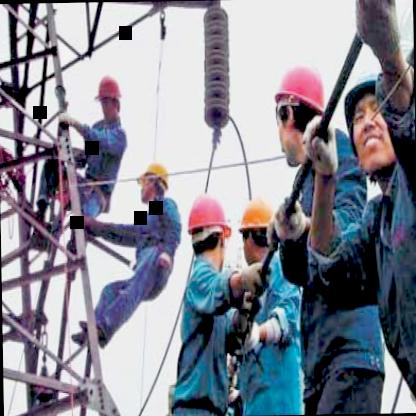helmet: (341, 62, 412, 176), (266, 54, 326, 158), (186, 189, 232, 271), (234, 188, 278, 264), (137, 157, 173, 202), (94, 72, 124, 124)
